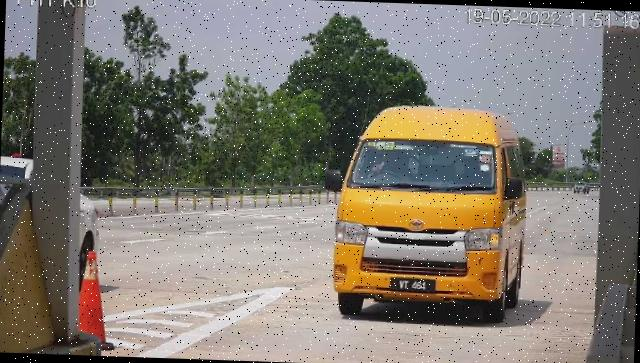License_Plate: (390, 278, 439, 298)
van: (333, 104, 529, 324)
